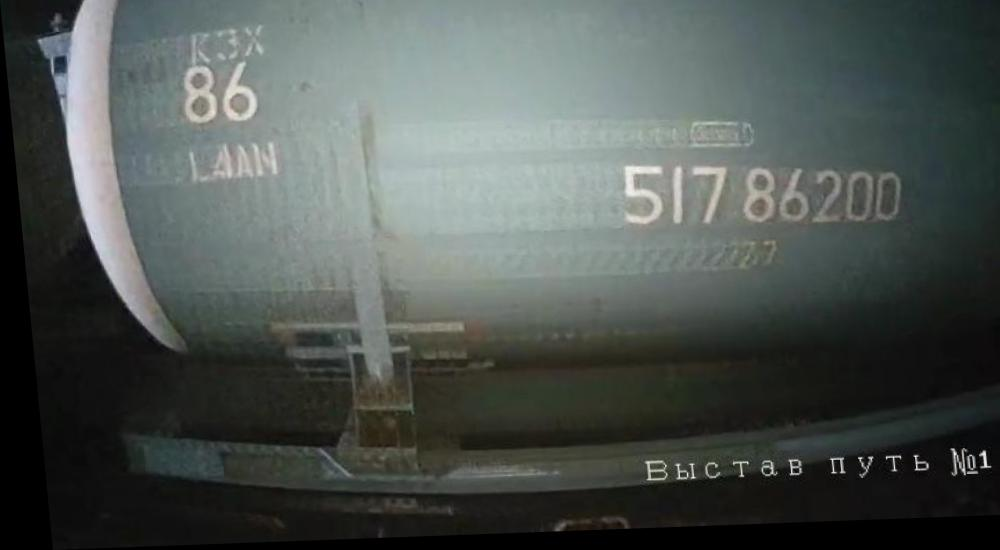Wagon-number: (607, 157, 903, 246)
